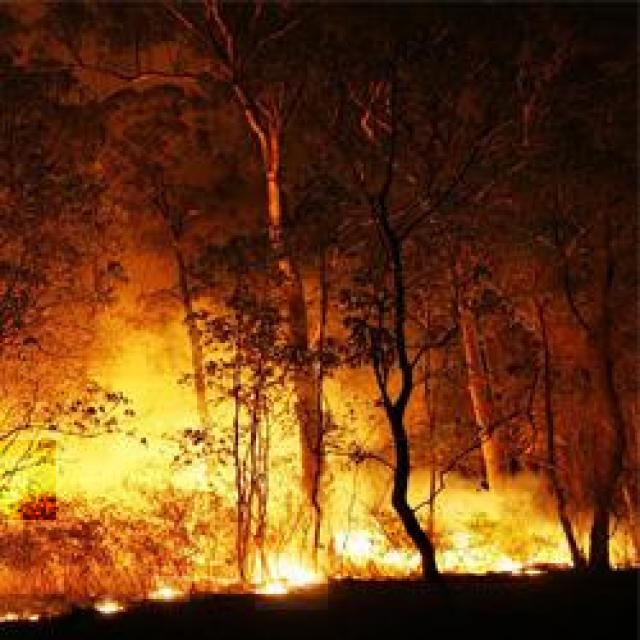Fire: (343, 519, 529, 583), (154, 437, 245, 497), (255, 548, 328, 610), (0, 440, 56, 520), (151, 576, 190, 602), (94, 596, 118, 620)
